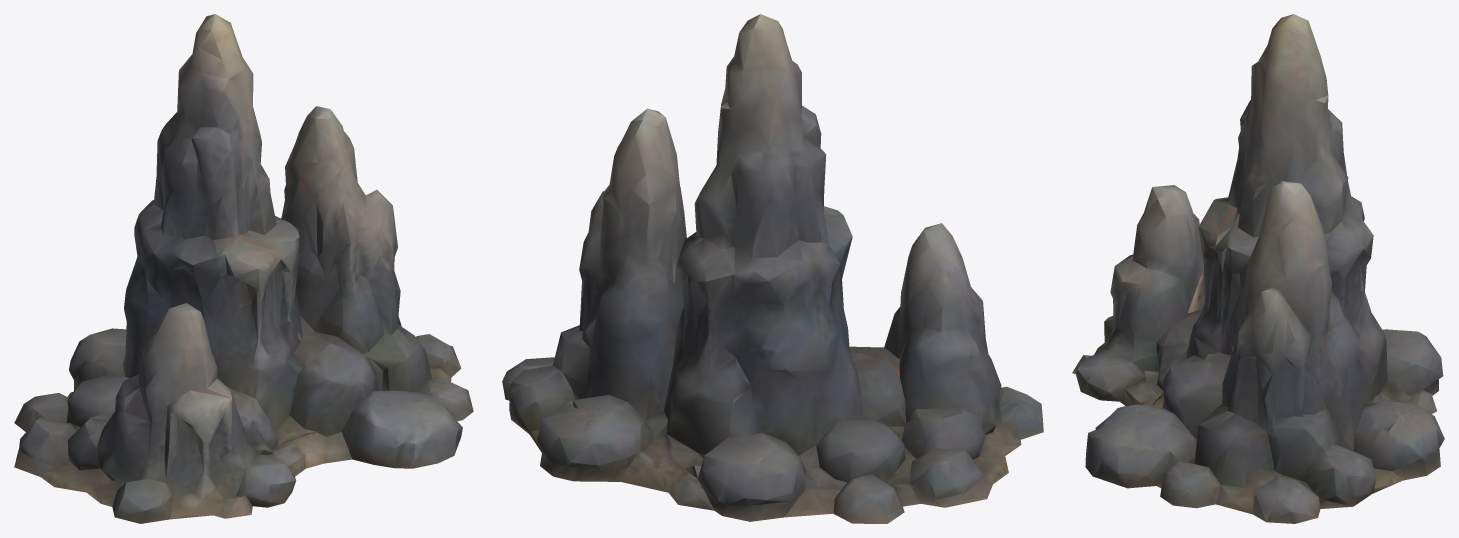
The model's file is estalagmitas_a.glb.
The picture shows the model from 3 angles, left to right: view 1: azimuth 30°, elevation 25°; view 2: azimuth 150°, elevation 25°; view 3: azimuth 270°, elevation 25°; orthographic projection. The views are drawn at different scales.
Parts seen in each view (by area): view 1: estalagmitas_a_malla; view 2: estalagmitas_a_malla; view 3: estalagmitas_a_malla.
Boxes of the visible parts, left/top/right/bottom form: estalagmitas_a_malla: left=14, top=14, right=473, bottom=523; estalagmitas_a_malla: left=502, top=14, right=1043, bottom=523; estalagmitas_a_malla: left=1072, top=14, right=1444, bottom=523.
Bounding box in the file's own units: 0.411 × 0.3574 × 0.3045.
1 material, 1 textured.
